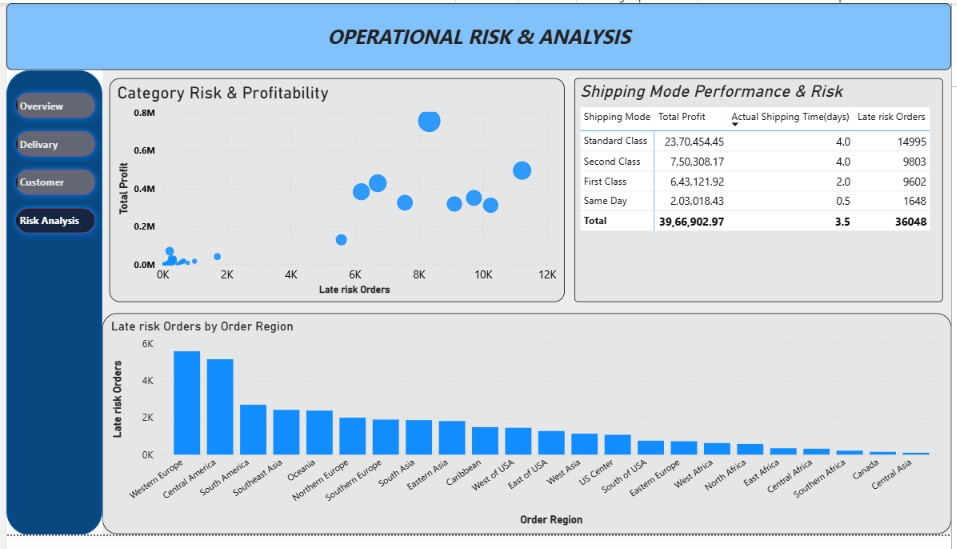

What the dashboard file says about the page in this screenshot:
{"tool":"powerbi","page":{"name":"Risk Analysis","canvas":[1280,720],"ordinal":3},"visuals":[{"type":"clusteredColumnChart","fields":{"Category":["DataCoSupplyChainDataset (2).Order Region"],"Y":["DataCoSupplyChainDataset (2).Late risk Orders"]},"box":[130.1,420,1150.2,299.4],"z":0},{"type":"scatterChart","title":"Category Risk & Profitability","fields":{"X":["DataCoSupplyChainDataset (2).Late risk Orders"],"Category":["DataCoSupplyChainDataset (2).Category Name"],"Y":["DataCoSupplyChainDataset (2).Total Profit"],"Size":["DataCoSupplyChainDataset (2).Total Sales"]},"box":[139.5,101.6,616.4,303.5],"z":1000},{"type":"pivotTable","title":"Shipping Mode Performance & Risk","fields":{"Rows":["DataCoSupplyChainDataset (2).Shipping Mode"],"Values":["DataCoSupplyChainDataset (2).Total Profit","DataCoSupplyChainDataset (2).Actual Shipping Time","DataCoSupplyChainDataset (2).Late risk Orders"]},"box":[769,102.2,499.3,303.2],"z":2000},{"type":"textbox","box":[0,0,1280.3,90.8],"z":3000},{"type":"shape","box":[0,90.8,130.1,630],"z":8000},{"type":"pageNavigator","box":[4.1,112.4,126,210],"z":9000}]}

Visuals, with their boxes in screenshot pixels (x1, y1, x2, y2):
clusteredColumnChart - DataCoSupplyChainDataset (2).Order Region x DataCoSupplyChainDataset (2).Late risk Orders: region(98, 310, 946, 530)
"Category Risk & Profitability" scatterChart: region(105, 75, 560, 299)
"Shipping Mode Performance & Risk" pivotTable: region(569, 75, 938, 299)
textbox: region(2, 0, 946, 67)
shape: region(2, 67, 98, 531)
pageNavigator: region(6, 83, 98, 238)
